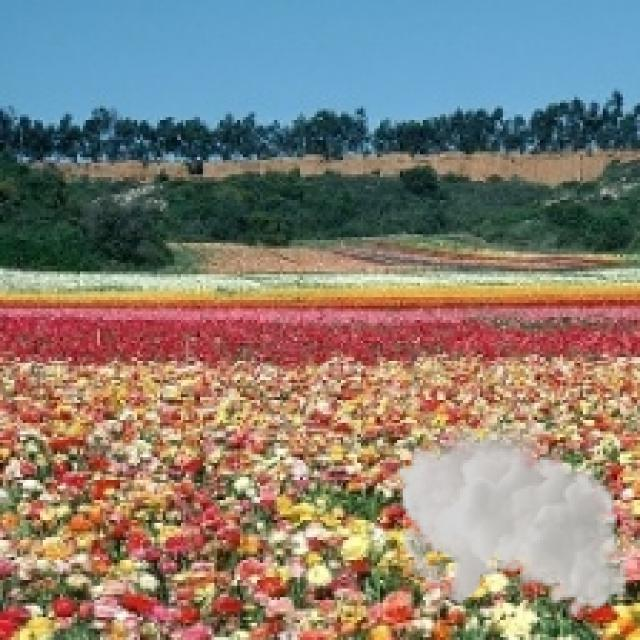smoke: (394, 417, 629, 617)
